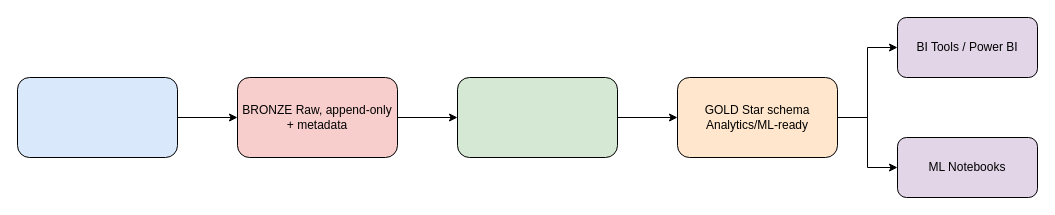
Some shapes in this 1055 by 215 pixel diagram are drawn without their labels. The shapes that lost their labels are listed below. From the top down, each one's box as (x1, y1, x2, y2) in pixels, then its label:
(16, 76, 178, 158): Source Systems (Customer, Product, Sales, etc.)
(456, 76, 618, 158): SILVER Deduplicated, validated SCD Type 2
